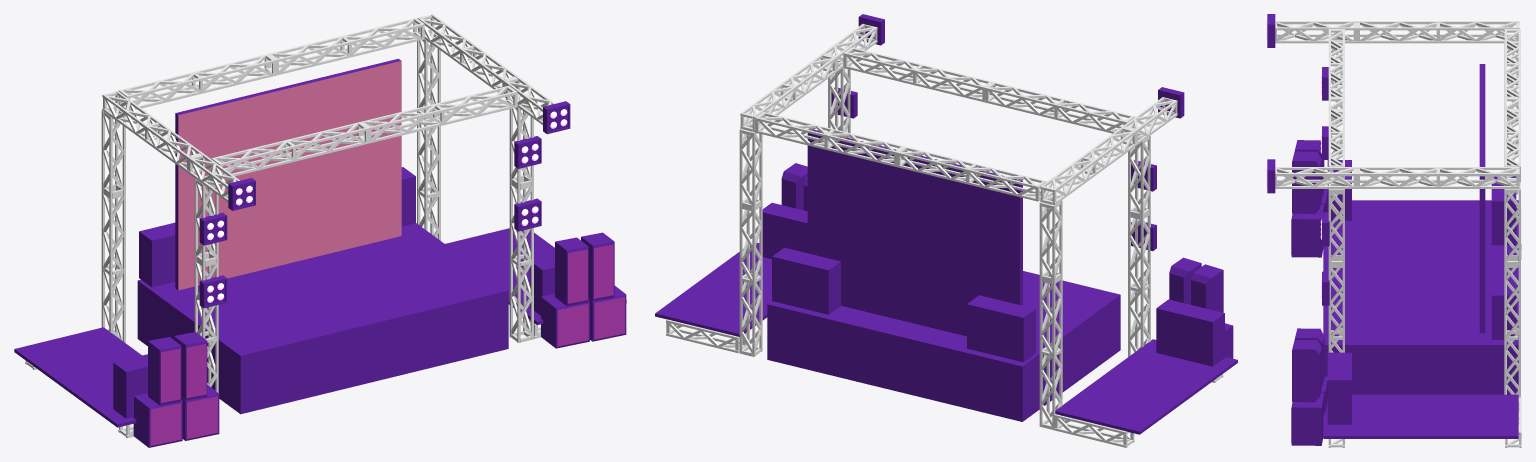
Rendered from stage.glb.
3 renders of one model, left to right at view 1: azimuth 30°, elevation 25°; view 2: azimuth 150°, elevation 25°; view 3: azimuth 270°, elevation 25°, orthographic. The views are drawn at different scales.
Visible parts, largest first — view 1: STAGEmodul, Philips_PM5544_(SECAM_variation), Cube.004, Cube.000, STAGEmodul.003, Cube.003, Cube.001, Cube.012, Cube.015, Cube.014, Cube.013, Cube.005 (+14 smaller); view 2: Philips_PM5544_(SECAM_variation), STAGEmodul, STAGEmodul.003, Cube.004, Cube.000, Cube.005, STAGEmodul.002, Cube.003, Cube.002, Hardcase.002, Hardcase.003, Hardcase.000 (+8 smaller); view 3: STAGEmodul, STAGEmodul.002, Cube.007, Cube.006, STAGEmodul.003, Cube.005, Cube.012, Cube.004, Cube.000, Cube.001, Hardcase.001, Philips_PM5544_(SECAM_variation) (+15 smaller).
Boxes of the visible parts, bbox=[...] form: STAGEmodul: bbox=[137, 223, 508, 414]; Philips_PM5544_(SECAM_variation): bbox=[175, 58, 401, 290]; Cube.004: bbox=[118, 18, 424, 110]; Cube.000: bbox=[211, 85, 517, 178]; STAGEmodul.003: bbox=[14, 327, 141, 427]; Cube.003: bbox=[101, 108, 125, 343]; Cube.001: bbox=[509, 98, 533, 342]; Cube.012: bbox=[555, 232, 614, 306]; Cube.015: bbox=[148, 332, 207, 405]; Cube.014: bbox=[133, 385, 219, 447]; Cube.013: bbox=[541, 285, 626, 348]; Cube.005: bbox=[417, 32, 440, 240]; Philips_PM5544_(SECAM_variation): bbox=[807, 129, 1022, 336]; STAGEmodul: bbox=[767, 271, 1120, 421]; STAGEmodul.003: bbox=[1055, 339, 1237, 434]; Cube.004: bbox=[755, 112, 1046, 201]; Cube.000: bbox=[843, 47, 1134, 133]; Cube.005: bbox=[739, 126, 762, 356]; STAGEmodul.002: bbox=[655, 242, 771, 336]; Cube.003: bbox=[1039, 199, 1062, 430]; Cube.002: bbox=[1128, 132, 1150, 356]; Hardcase.002: bbox=[967, 295, 1035, 362]; Hardcase.003: bbox=[772, 247, 840, 314]; Hardcase.000: bbox=[1156, 299, 1224, 366]; STAGEmodul: bbox=[1323, 221, 1518, 394]; STAGEmodul.002: bbox=[1323, 394, 1518, 438]; Cube.007: bbox=[1275, 167, 1519, 188]; Cube.006: bbox=[1275, 21, 1519, 43]; STAGEmodul.003: bbox=[1352, 200, 1518, 220]; Cube.005: bbox=[1504, 182, 1520, 412]; Cube.012: bbox=[1292, 328, 1324, 402]; Cube.004: bbox=[1504, 29, 1520, 181]; Cube.000: bbox=[1328, 29, 1344, 179]; Cube.001: bbox=[1328, 183, 1344, 352]; Hardcase.001: bbox=[1327, 352, 1351, 424]; Philips_PM5544_(SECAM_variation): bbox=[1479, 64, 1485, 333].
Size of the model in its own units: 13.68 by 6.64 by 6.27.
